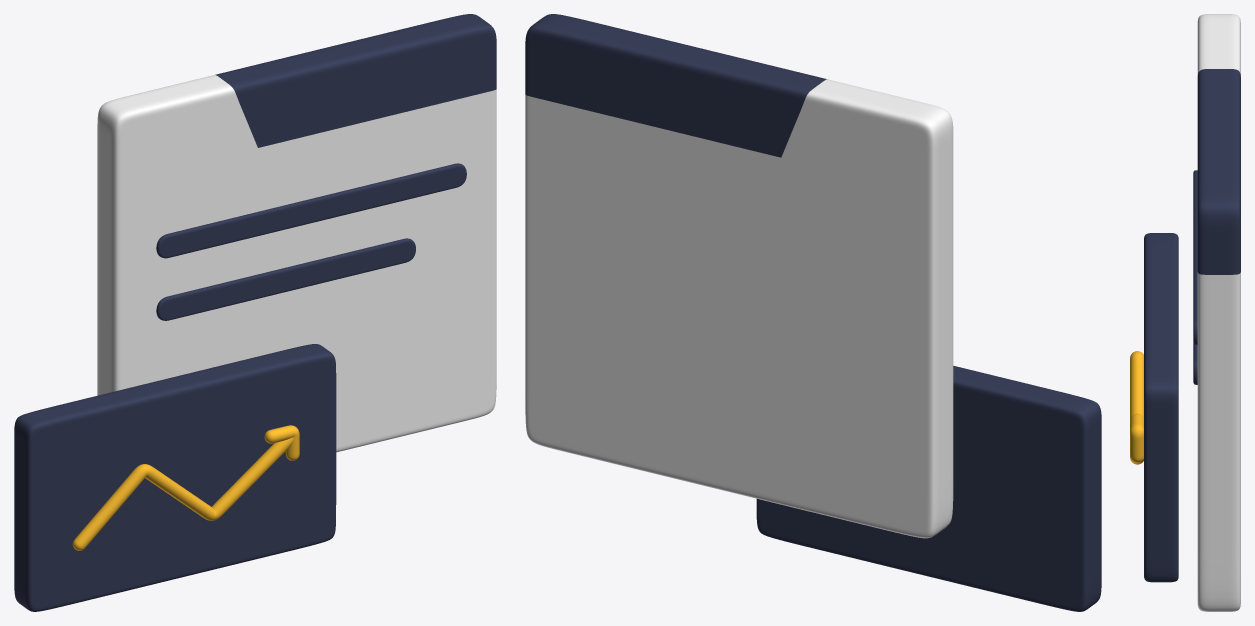
The picture shows the model from 3 angles, left to right: view 1: azimuth 30°, elevation 25°; view 2: azimuth 150°, elevation 25°; view 3: azimuth 270°, elevation 25°; orthographic projection. The views are drawn at different scales.
Parts seen in each view (by area): view 1: Plane, Plane.002, Plane.001, Plane.004; view 2: Plane, Plane.002; view 3: Plane, Plane.002, Plane.004, Plane.001.
Boxes of the visible parts, <box> form: Plane: <box>97,14,496,452</box>; Plane.002: <box>14,344,336,611</box>; Plane.001: <box>156,163,466,320</box>; Plane.004: <box>72,425,299,550</box>; Plane: <box>525,14,953,538</box>; Plane.002: <box>756,365,1101,611</box>; Plane: <box>1197,14,1240,611</box>; Plane.002: <box>1144,233,1178,582</box>; Plane.004: <box>1130,351,1143,464</box>; Plane.001: <box>1193,170,1197,384</box>.
Bounding box in the file's own units: 1.88 × 1.65 × 0.3465.
